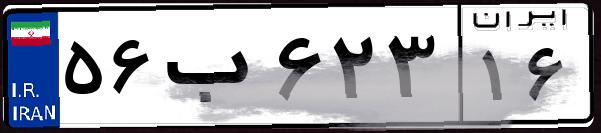1: (475, 38, 525, 113)
2: (330, 28, 385, 110)
3: (385, 28, 445, 110)
5: (57, 26, 110, 100)
6: (270, 28, 330, 110), (525, 38, 570, 115), (110, 28, 158, 98)
ب: (158, 20, 270, 120)
